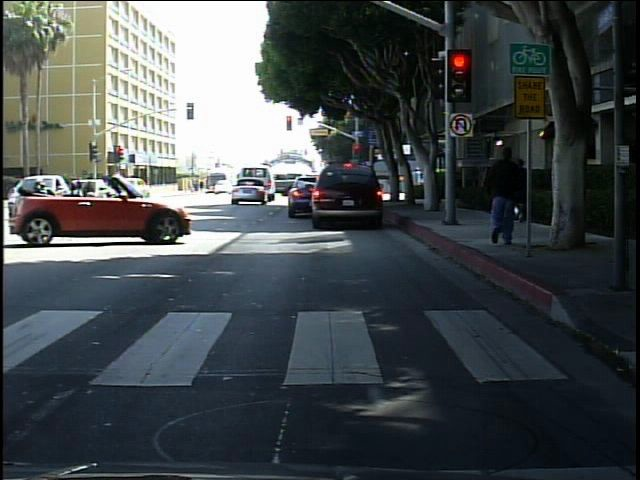person: (477, 132, 530, 251), (508, 148, 533, 232)
